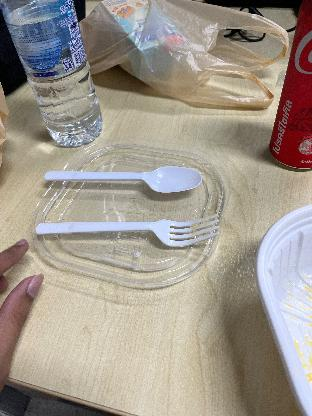Others: (29, 210, 225, 250), (40, 168, 204, 194)
Plastic Bottle: (0, 0, 106, 150)
